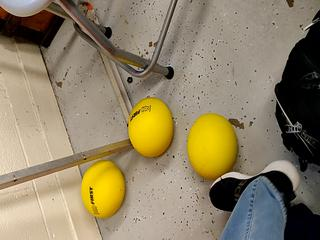power_cell: (78, 157, 129, 221), (186, 114, 236, 178), (126, 94, 176, 158)
